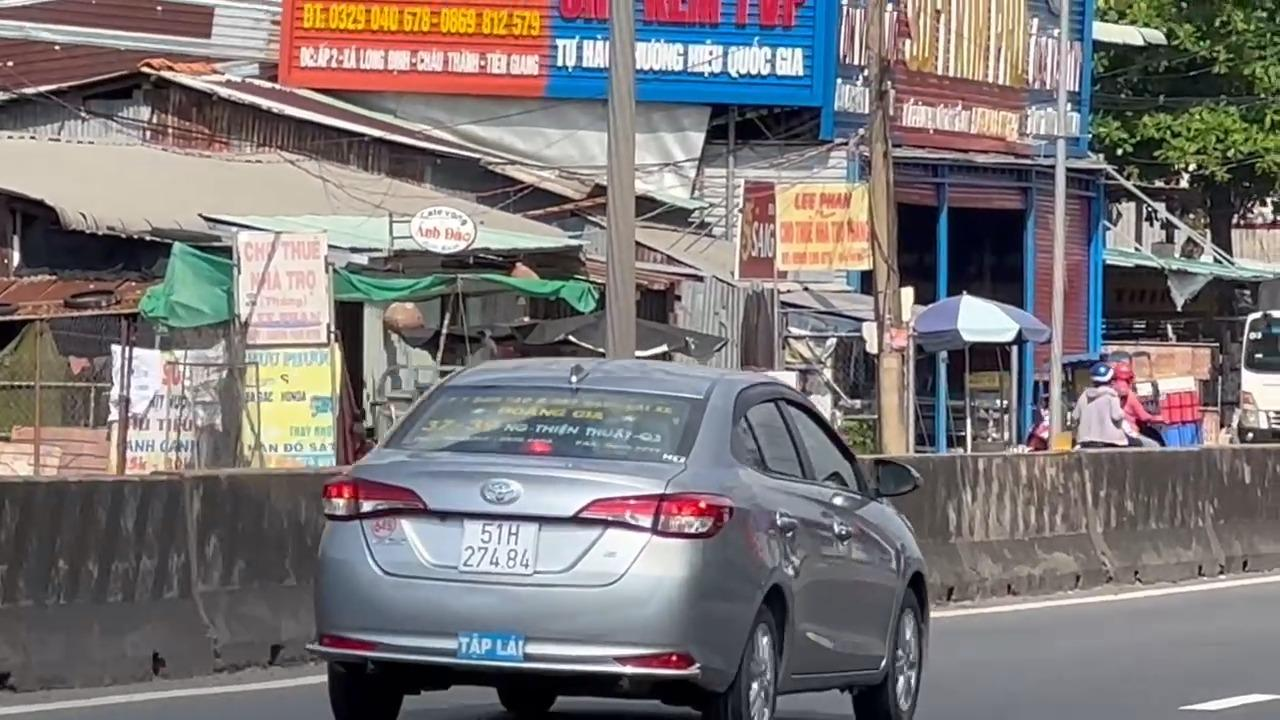bien_so: (457, 517, 539, 576)
